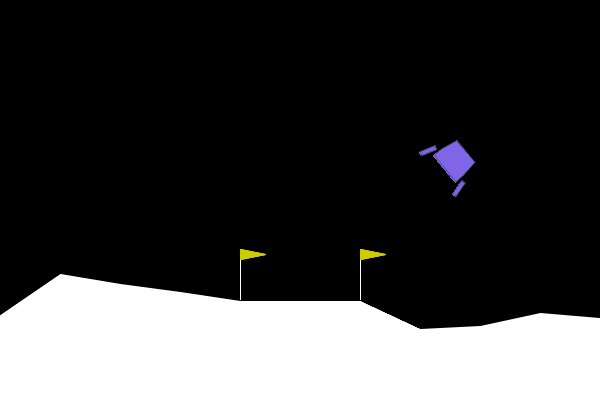lander: (417, 127, 486, 199)
